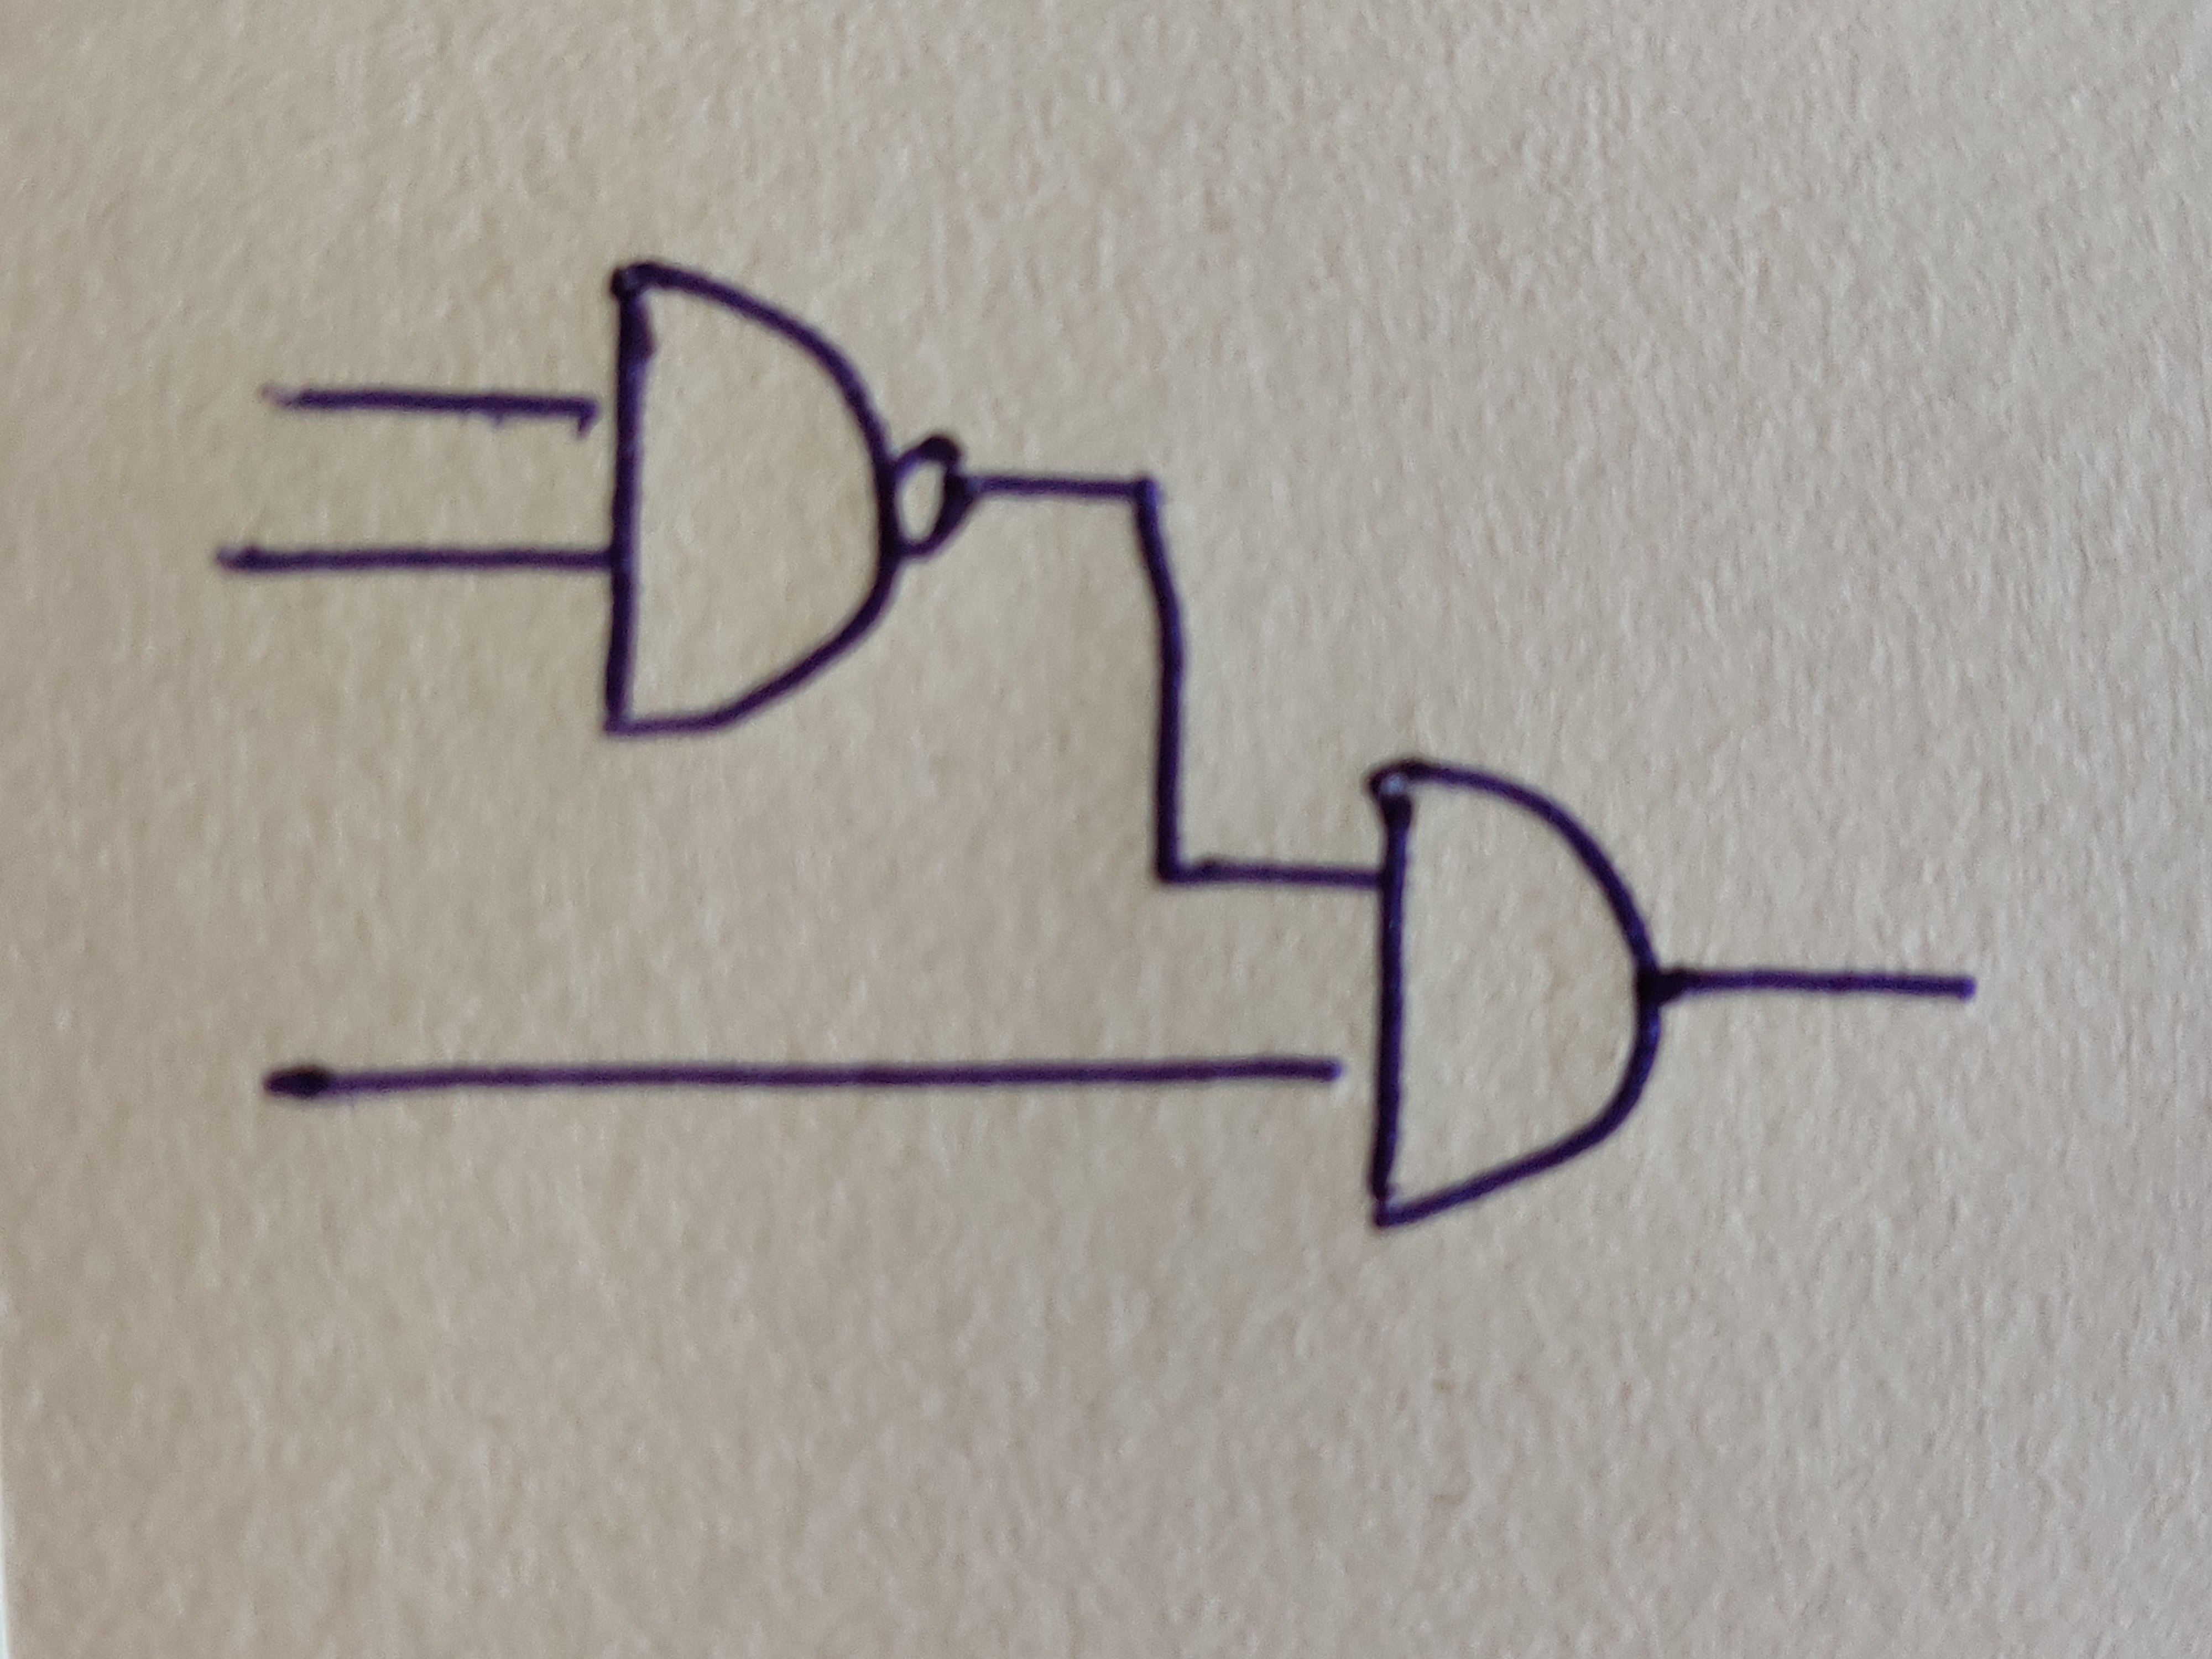and: (1366, 756, 1663, 1227), (604, 268, 897, 739)
not: (890, 430, 975, 558)
